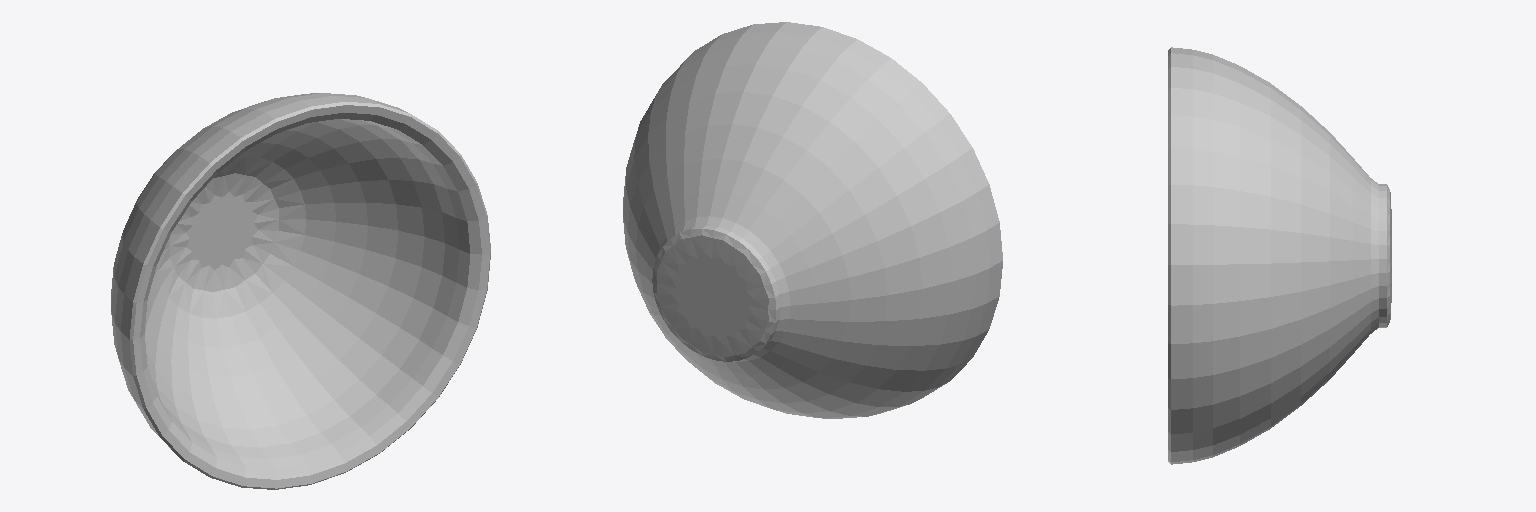
Rendered from Cup1.obj.
The picture shows the model from 3 angles: view 1: azimuth 30°, elevation 25°; view 2: azimuth 150°, elevation 25°; view 3: azimuth 270°, elevation 25°; orthographic projection.
Parts seen in each view (by area): view 1: Cup1_Cylinder; view 2: Cup1_Cylinder; view 3: Cup1_Cylinder.
Part boxes in pixels (x1,y1,x2,y2): Cup1_Cylinder: (111,93,490,489); Cup1_Cylinder: (623,22,1002,418); Cup1_Cylinder: (1168,47,1391,464).
Size of the model in its own units: 0.4973 by 0.4973 by 0.2655.